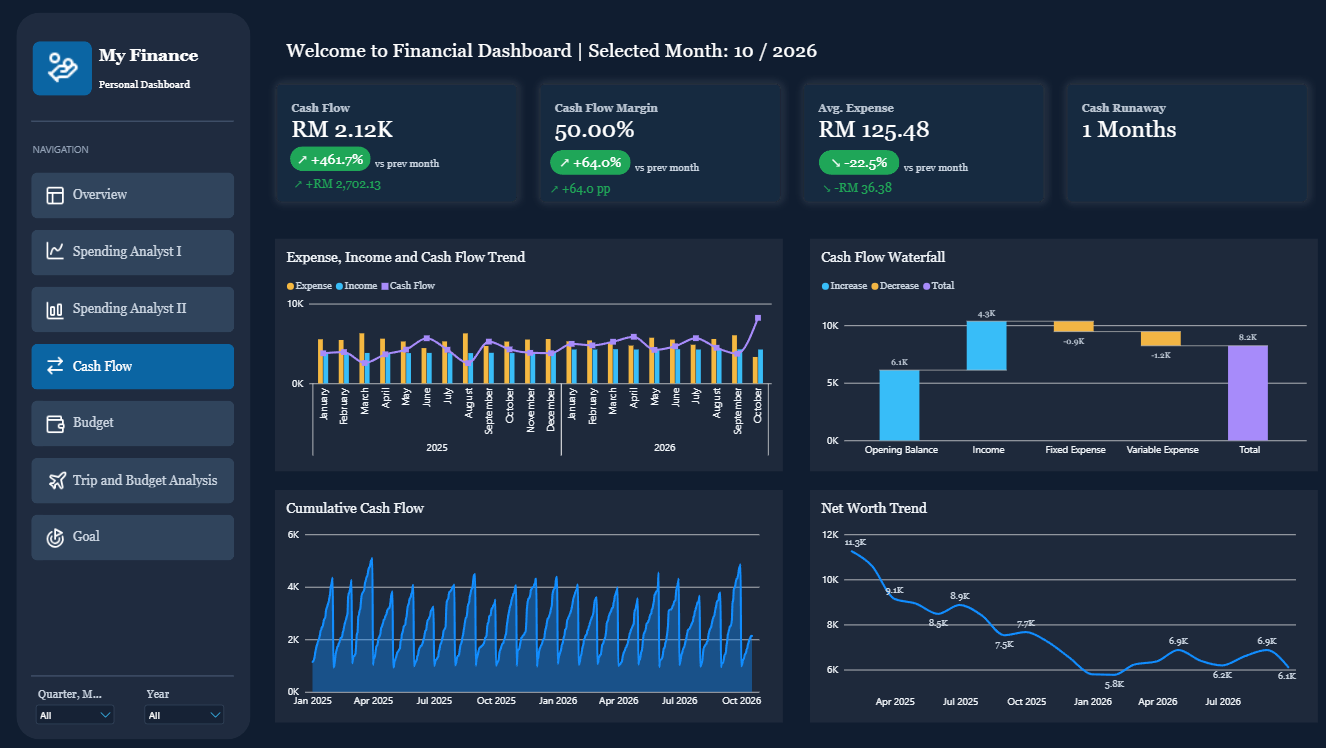

The dashboard page shown, as its layout file describes it:
{"tool":"powerbi","page":{"name":"Cash Flow","canvas":[1920,1080],"ordinal":4},"visuals":[{"type":"shape","box":[22.9,17.1,337.1,1045.7],"z":0,"group":"g4"},{"type":"shape","box":[47,58,85.5,78.2],"z":0,"group":"g6"},{"type":"lineClusteredColumnComboChart","title":"Expense, Income and Cash Flow Trend","fields":{"Category":["DateTable.Date.Variation.Date Hierarchy.Year","DateTable.Date.Variation.Date Hierarchy.Month"],"Y":["Dax Normal.Expense","Dax Normal.Income"],"Y2":["Dax Normal.Cash Flow"]},"box":[395.4,343.3,730,334],"z":0},{"type":"image","box":[65.3,73,50.8,46.7],"z":1000,"group":"g6"},{"type":"cardVisual","fields":{"Data":["DAX CP.C Cash Flow","DAX CP.C Cash Flow Margin","DAX CP.C Avg Expense","DynamicText.Text Cash Runaway"]},"box":[384.3,108.1,1510,195],"z":1000,"group":"g1"},{"type":"cardVisual","fields":{"Data":["DynamicText.Text Cash Flow Number Compare"]},"box":[422,246.4,207.1,32.8],"z":1000,"group":"g5"},{"type":"cardVisual","fields":{"Data":["DynamicText.Text Avg Expense Number Compare"]},"box":[1182.2,250.8,207.1,32.8],"z":1000,"group":"g3"},{"type":"cardVisual","fields":{"Data":["DynamicText.Text Cash Flow Margin Number Compare"]},"box":[791.8,251.9,207.1,32.8],"z":1000,"group":"g2"},{"type":"lineChart","title":"Net Worth Trend","fields":{"Category":["DateTable.Date.Variation.Date Hierarchy.Year"],"Y":["Dax Normal.Net Worth"]},"box":[1164.3,704.3,730,334.4],"z":1000},{"type":"slicer","fields":{"Values":["DateTable.Quarter","DateTable.Month"]},"box":[45.8,987.6,122.5,62.8],"z":1000,"group":"g4"},{"type":"group","id":"g1","title":"Group 4","box":[384.3,25,1510,278.1],"z":2000},{"type":"cardVisual","fields":{"Data":["DynamicText.Text Selected Month"]},"box":[395.7,25,813.3,95],"z":2000,"group":"g1"},{"type":"textbox","box":[142.5,63.1,188.6,70],"z":2000,"group":"g6"},{"type":"shape","box":[417.3,210.6,116.3,35.8],"z":2000,"group":"g5"},{"type":"shape","box":[791.2,215,116.3,35.8],"z":2000,"group":"g2"},{"type":"shape","box":[1177.5,215,116.3,35.8],"z":2000,"group":"g3"},{"type":"slicer","fields":{"Values":["DateTable.Year"]},"box":[202,987.6,124.4,62.8],"z":2000,"group":"g4"},{"type":"pageNavigator","box":[44.2,246.9,292.2,558.9],"z":3000,"group":"g4"},{"type":"waterfallChart","title":"Cash Flow Waterfall","fields":{"Category":["Cash Flow Waterfall Steps.Step"],"Y":["Cash Flow Waterfall Steps.Cash Flow Waterfall Value"]},"box":[1164.3,342.9,730,334],"z":3000},{"type":"cardVisual","fields":{"Data":["DynamicText.Text Cash Flow Compare"]},"box":[417.3,211.7,116.3,27.4],"z":4000,"group":"g5"},{"type":"cardVisual","fields":{"Data":["DynamicText.Text Cash Flow Margin Compare"]},"box":[791.2,216.1,116.3,27.4],"z":4000,"group":"g2"},{"type":"cardVisual","fields":{"Data":["DynamicText.Text Avg Expense Compare"]},"box":[1177.5,216.1,116.3,27.4],"z":4000,"group":"g3"},{"type":"image","box":[62.8,265,32.7,30],"z":4000,"group":"g4"},{"type":"areaChart","title":"Cumulative Cash Flow","fields":{"Category":["Advanced Budget.Date.Variation.Date Hierarchy.Day"],"Y":["Sum(Advanced Budget.Cumulative Expenses)"]},"box":[395.7,704.3,730,334],"z":4000},{"type":"group","id":"g2","title":"Group 1","box":[791.2,215,230,70],"z":5000},{"type":"image","box":[65.6,674.4,32.5,30],"z":5000,"group":"g4"},{"type":"shape","box":[45,164,291,18],"z":6000,"group":"g4"},{"type":"group","id":"g3","title":"Group 1","box":[1177.5,215,230,68.8],"z":6000},{"type":"group","id":"g4","title":"Group 3","box":[22.9,17.1,337.1,1045.7],"z":7000},{"type":"group","id":"g5","title":"Group 1","box":[417.3,210.6,230,68.9],"z":7000,"group":"g1"},{"type":"image","box":[62.8,758.1,32.5,30],"z":7000,"group":"g4"},{"type":"textbox","box":[45.8,204.3,99.3,21.8],"z":8000,"group":"g4"},{"type":"shape","box":[45,963,291,17],"z":9000,"group":"g4"},{"type":"group","id":"g6","title":"Group 2","box":[47,58,284,78],"z":10000,"group":"g4"},{"type":"image","box":[62.8,345,32.7,30],"z":11000,"group":"g4"},{"type":"image","box":[62.8,430,32.5,30],"z":12000,"group":"g4"},{"type":"image","box":[62.4,510,32.5,30],"z":13000,"group":"g4"},{"type":"image","box":[62.8,593.6,32.7,30],"z":14000,"group":"g4"},{"type":"textbox","box":[539.4,225.3,107.4,21.1],"z":18000,"group":"g5"},{"type":"textbox","box":[913.3,229.7,107.4,21.1],"z":18000,"group":"g2"},{"type":"textbox","box":[1299.6,229.7,107.4,21.1],"z":18000,"group":"g3"}]}

Visuals, with their boxes on the page's 1920x1080 design canvas (x1, y1, x2, y2). These are canvas units, not pixel positions in the 1326x748 screenshot, which may show the page scaled, cropped or inside an application window:
shape: <box>23,17,360,1063</box>
shape: <box>47,58,132,136</box>
"Expense, Income and Cash Flow Trend" lineClusteredColumnComboChart: <box>395,343,1125,677</box>
image: <box>65,73,116,120</box>
cardVisual - DAX CP.C Cash Flow x DAX CP.C Cash Flow Margin: <box>384,108,1894,303</box>
cardVisual - DynamicText.Text Cash Flow Number Compare: <box>422,246,629,279</box>
cardVisual - DynamicText.Text Avg Expense Number Compare: <box>1182,251,1389,284</box>
cardVisual - DynamicText.Text Cash Flow Margin Number Compare: <box>792,252,999,285</box>
"Net Worth Trend" lineChart: <box>1164,704,1894,1039</box>
slicer - DateTable.Quarter x DateTable.Month: <box>46,988,168,1050</box>
"Group 4" group: <box>384,25,1894,303</box>
cardVisual - DynamicText.Text Selected Month: <box>396,25,1209,120</box>
textbox: <box>142,63,331,133</box>
shape: <box>417,211,534,246</box>
shape: <box>791,215,908,251</box>
shape: <box>1178,215,1294,251</box>
slicer - DateTable.Year: <box>202,988,326,1050</box>
pageNavigator: <box>44,247,336,806</box>
"Cash Flow Waterfall" waterfallChart: <box>1164,343,1894,677</box>
cardVisual - DynamicText.Text Cash Flow Compare: <box>417,212,534,239</box>
cardVisual - DynamicText.Text Cash Flow Margin Compare: <box>791,216,908,244</box>
cardVisual - DynamicText.Text Avg Expense Compare: <box>1178,216,1294,244</box>
image: <box>63,265,96,295</box>
"Cumulative Cash Flow" areaChart: <box>396,704,1126,1038</box>
"Group 1" group: <box>791,215,1021,285</box>
image: <box>66,674,98,704</box>
shape: <box>45,164,336,182</box>
"Group 1" group: <box>1178,215,1408,284</box>
"Group 3" group: <box>23,17,360,1063</box>
"Group 1" group: <box>417,211,647,280</box>
image: <box>63,758,95,788</box>
textbox: <box>46,204,145,226</box>
shape: <box>45,963,336,980</box>
"Group 2" group: <box>47,58,331,136</box>
image: <box>63,345,96,375</box>
image: <box>63,430,95,460</box>
image: <box>62,510,95,540</box>
image: <box>63,594,96,624</box>
textbox: <box>539,225,647,246</box>
textbox: <box>913,230,1021,251</box>
textbox: <box>1300,230,1407,251</box>
